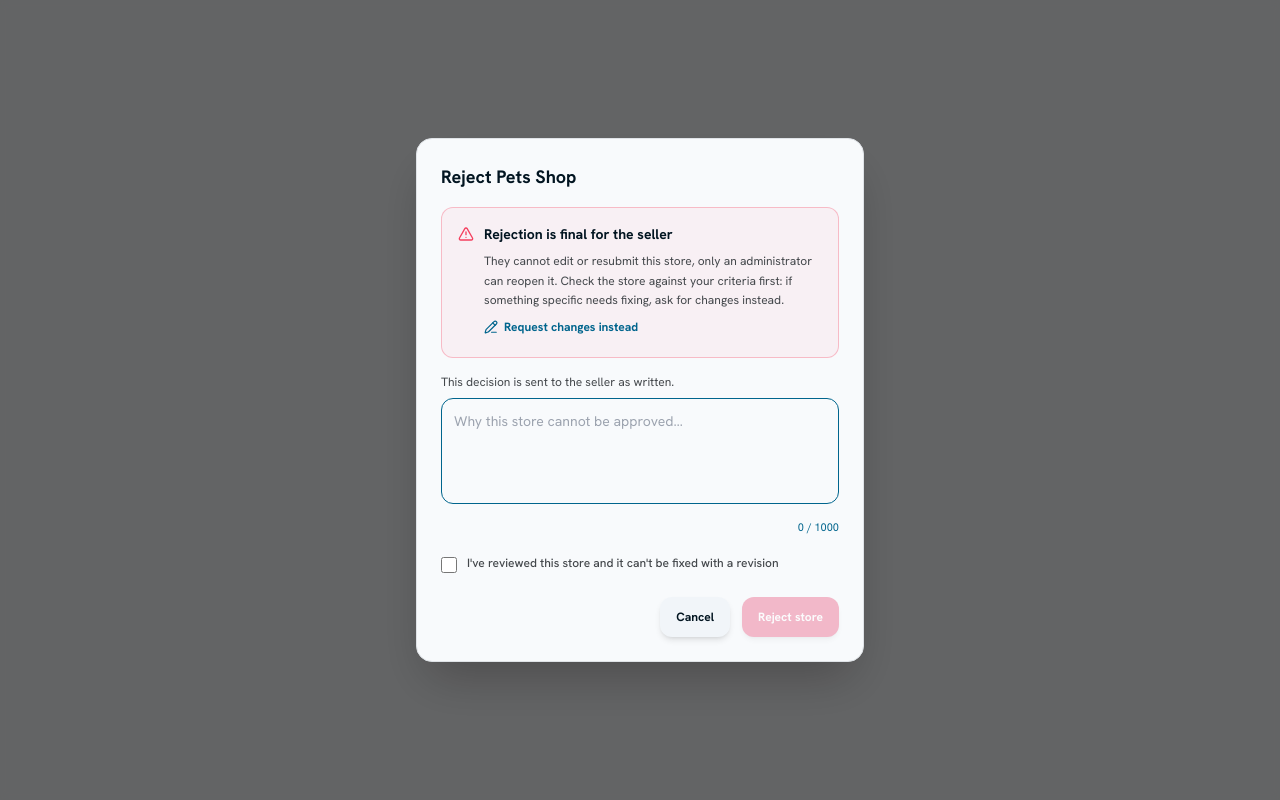
Test: switching to the revision path › clears the acknowledgement on the way back to Reject
The image size is (1280, 800).
Type "Address could not be verified" into the text box at (640, 451), box [441, 398, 839, 504]
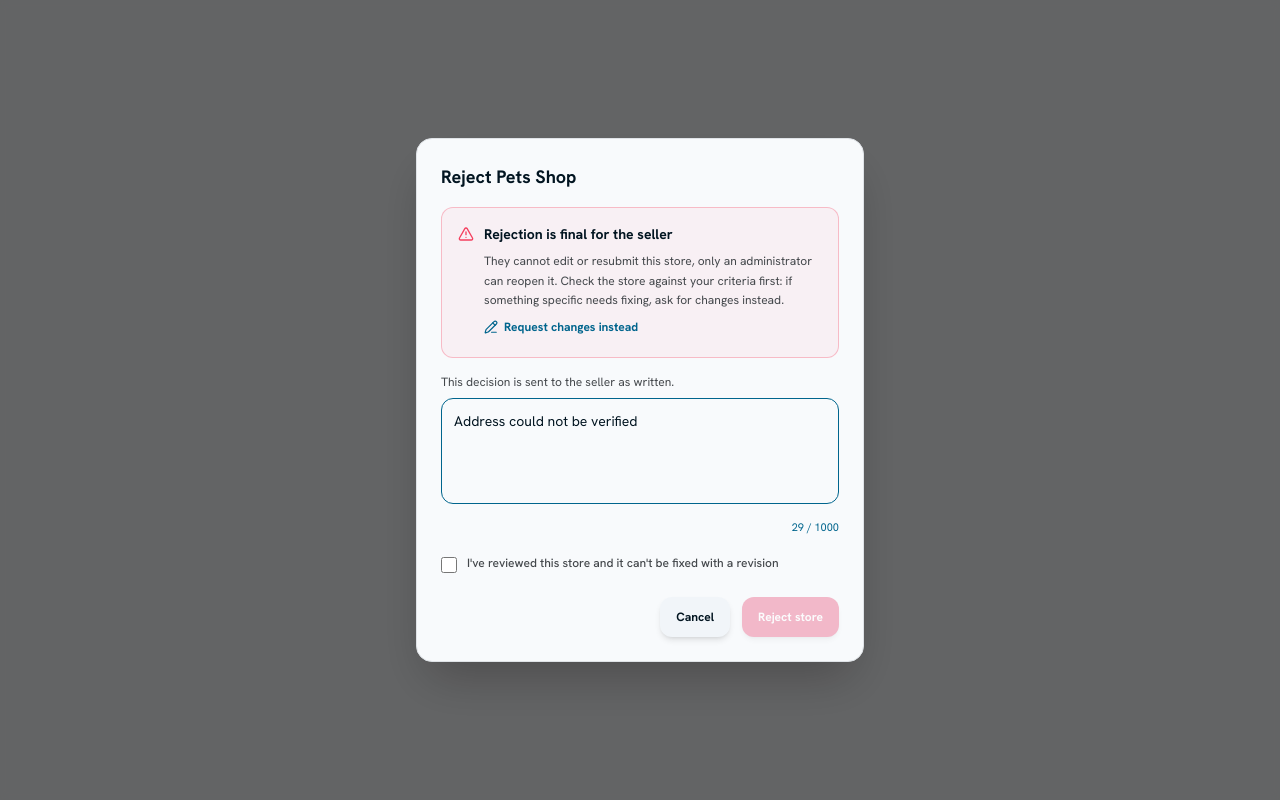
Click the checkbox at (449, 565), box [441, 557, 457, 573]
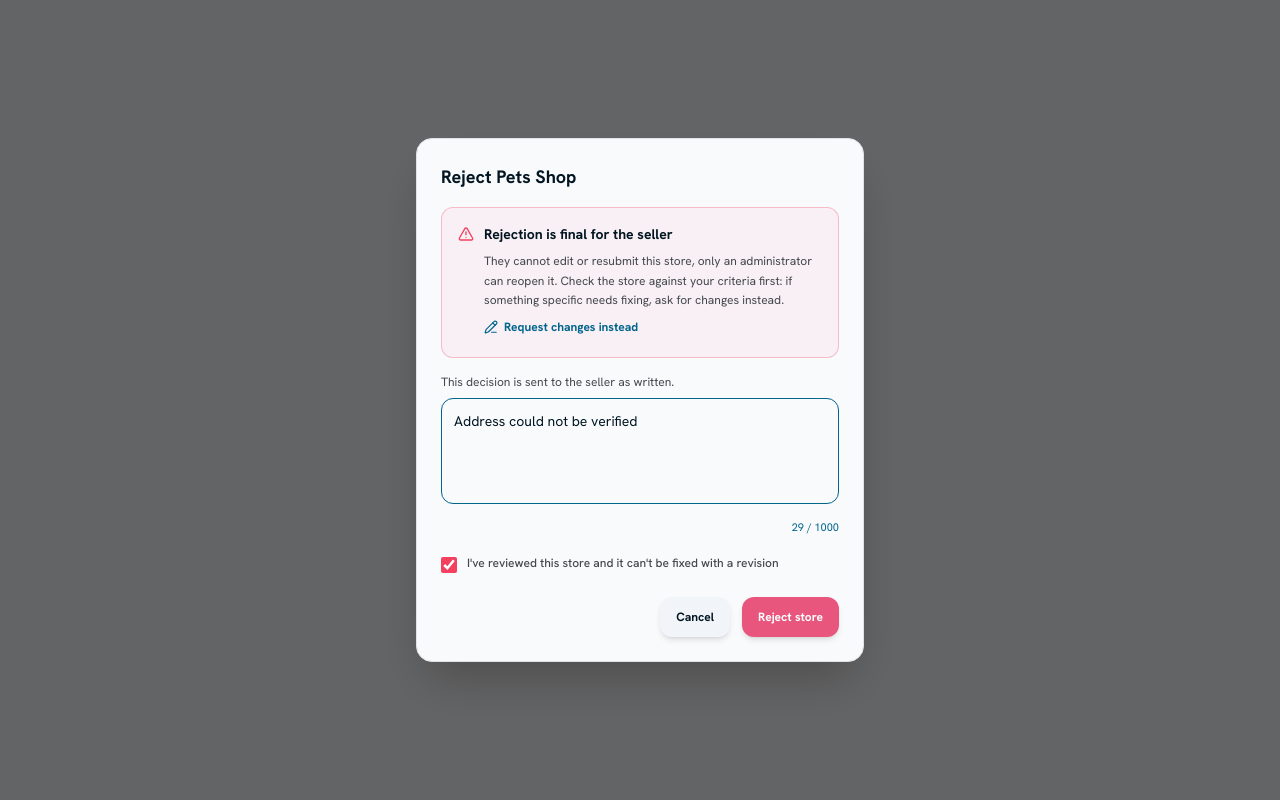
Now the button "Reject store" is enabled, box [742, 597, 839, 637]
Click the button "Request changes instead" at (561, 327), box [484, 319, 638, 335]
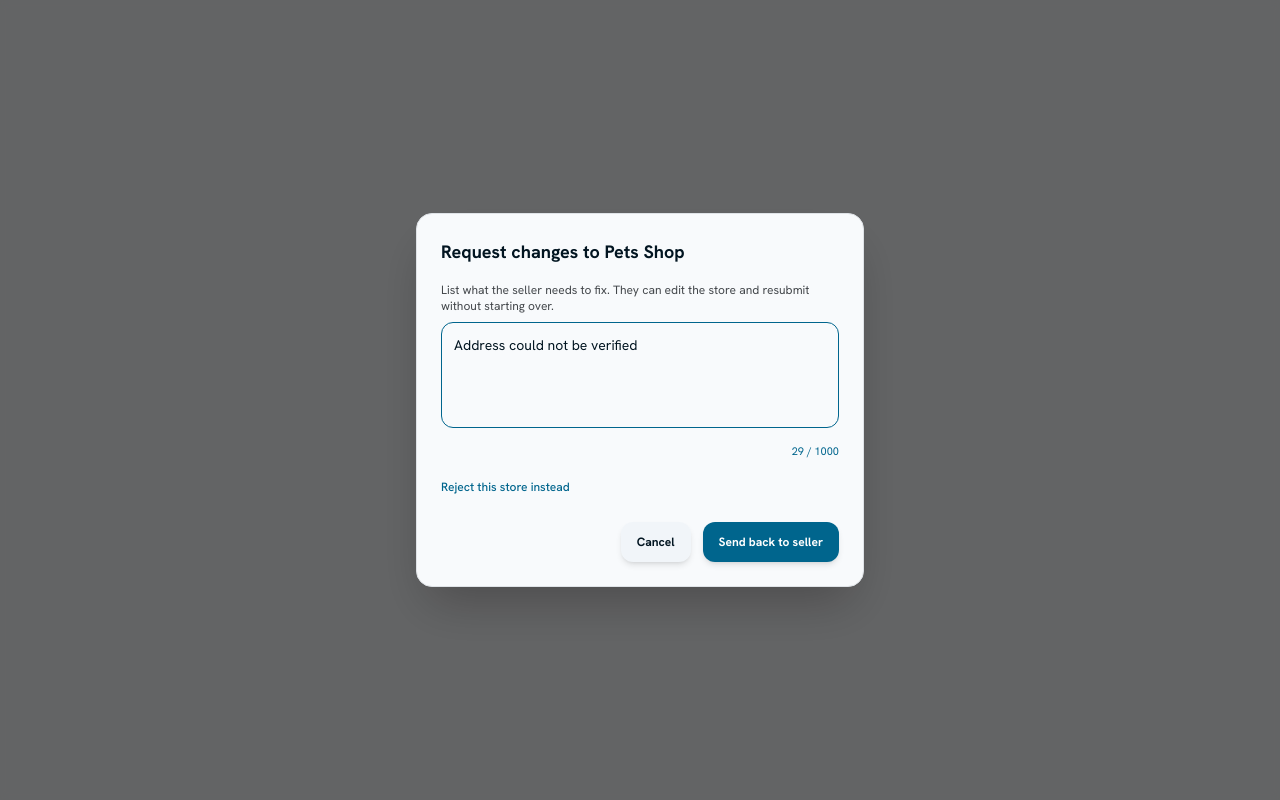
Click the button "Reject this store instead" at (505, 487), box [441, 479, 570, 495]
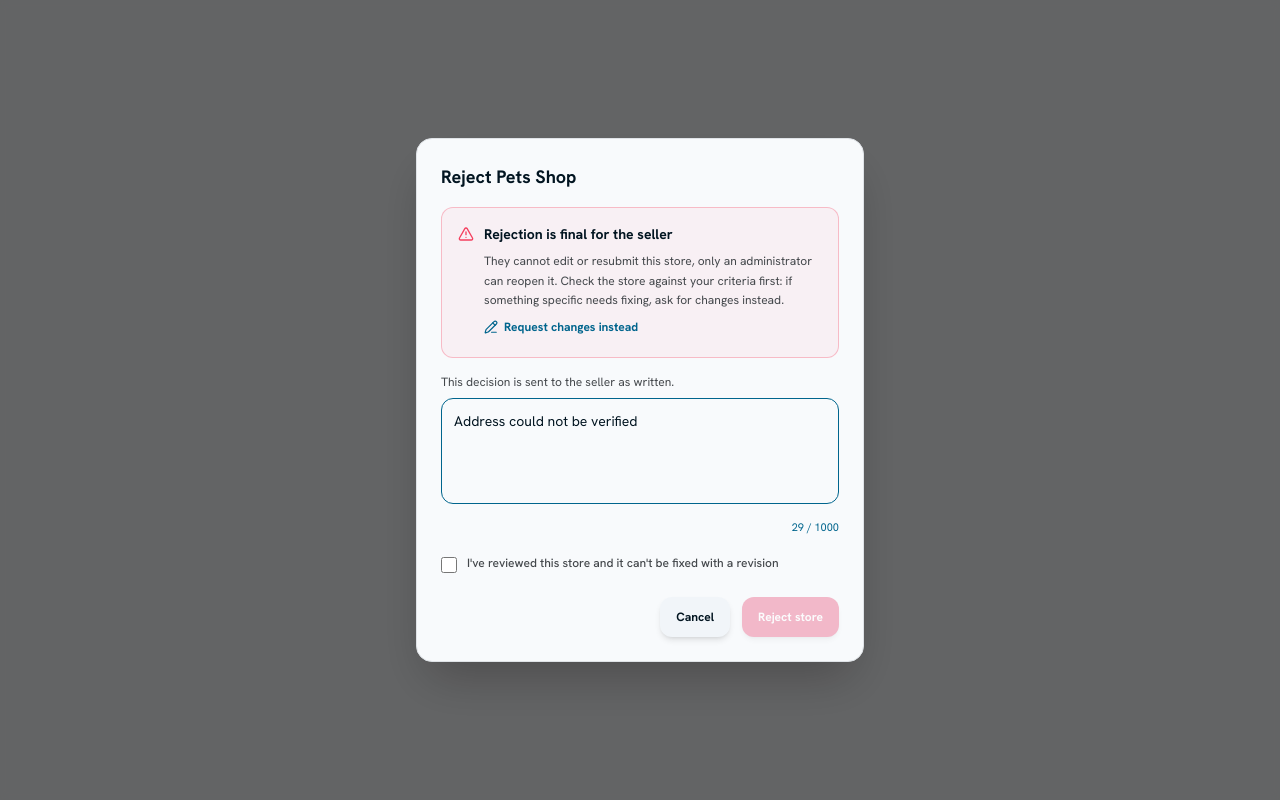
Now the checkbox is not checked, box [441, 557, 457, 573]
Now the button "Reject store" is disabled, box [742, 597, 839, 637]
